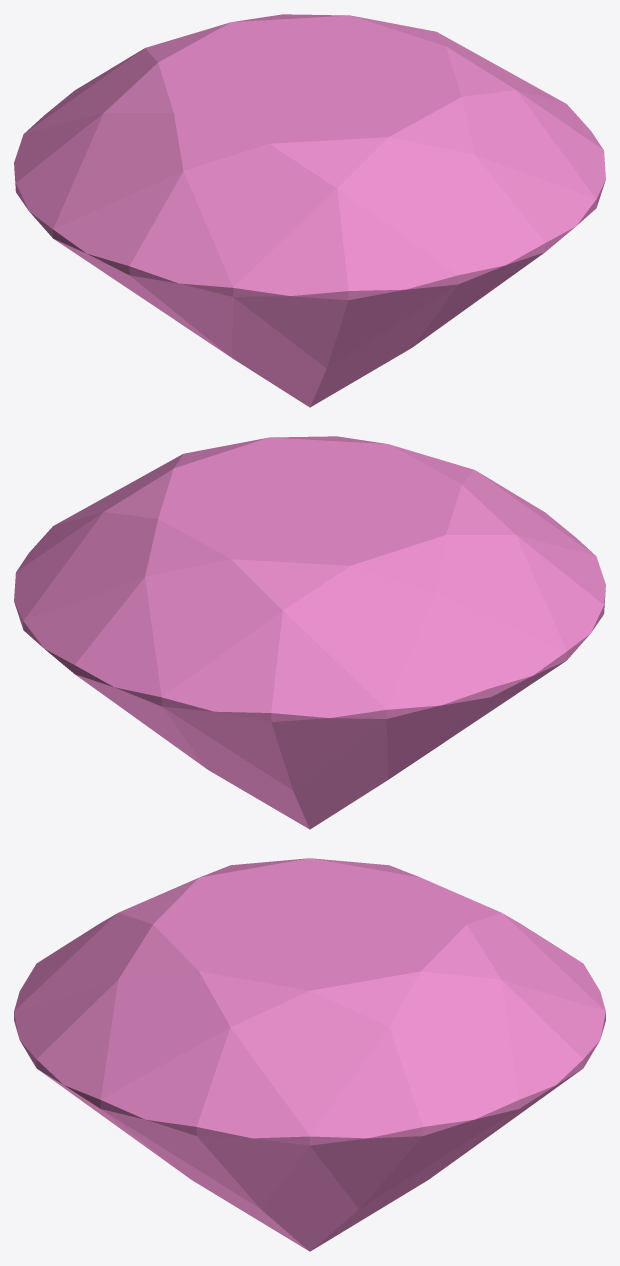
Rendered from Gem5.fbx.
3 renders of one model, top to bottom at view 1: azimuth 30°, elevation 25°; view 2: azimuth 150°, elevation 25°; view 3: azimuth 270°, elevation 25°, orthographic.
Parts seen in each view (by area): view 1: dobj; view 2: dobj; view 3: dobj.
Part boxes in pixels (x1,y1,x2,y2): dobj: (14,14,605,407); dobj: (14,436,605,829); dobj: (14,858,605,1251).
Bounding box in the file's own units: 200 × 122 × 200.
